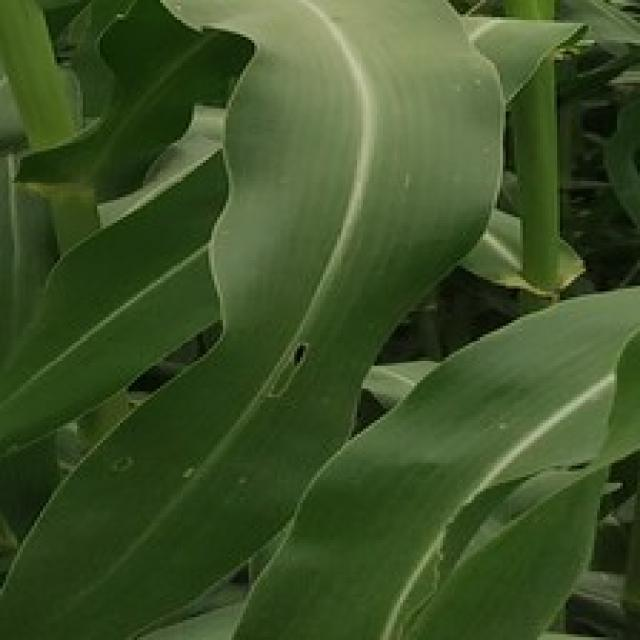Corn: (0, 0, 637, 637), (220, 277, 637, 637), (0, 143, 229, 477), (9, 0, 254, 203)
